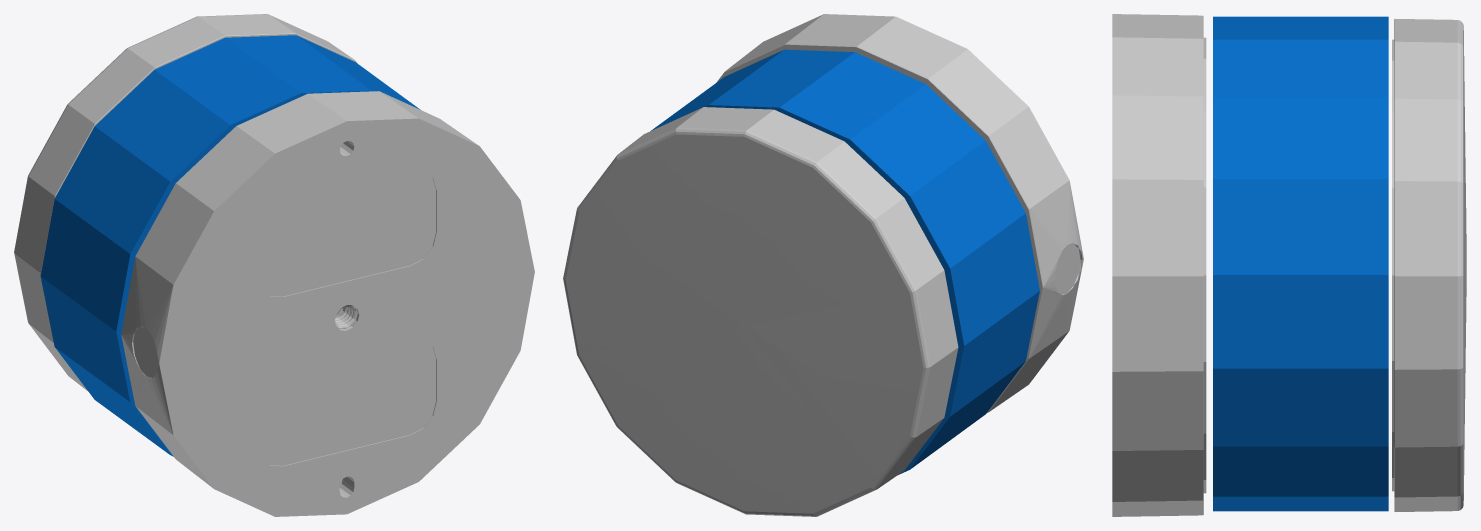
The model's file is vlp16_front_vis.dae.
3 views of the same model, side by side, from view 1: azimuth 30°, elevation 25°; view 2: azimuth 150°, elevation 25°; view 3: azimuth 270°, elevation 25° (orthographic). The views are drawn at different scales.
Visible parts, largest first — view 1: vlp16_front_vis; view 2: vlp16_front_vis; view 3: vlp16_front_vis.
Boxes of the visible parts, x1,y1,x2,y2 form: vlp16_front_vis: (14, 14, 534, 516); vlp16_front_vis: (563, 14, 1083, 516); vlp16_front_vis: (1112, 14, 1466, 516).
Bounding box in the file's own units: 0.1033 × 0.0727 × 0.1033.
